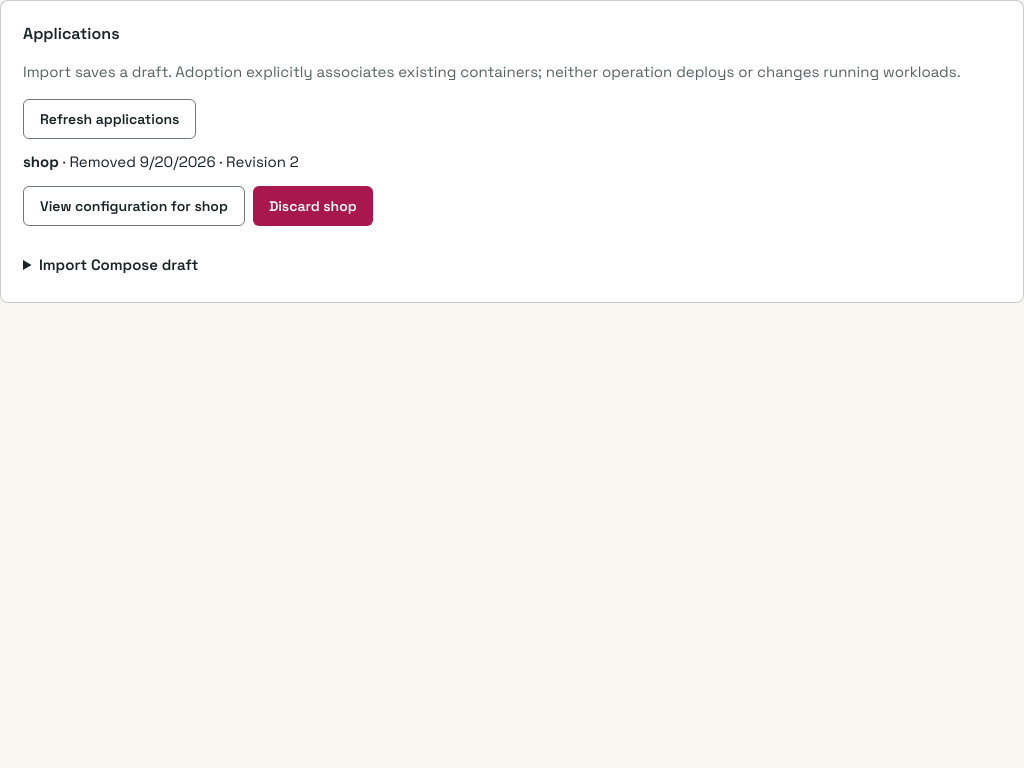
Test: labels a removed application, enables discard and offers re-adoption only
Expected: the button "Discard shop" is enabled, [253,186,373,226]
Click the button "View configuration for shop" at (134,206), box [23,186,245,226]
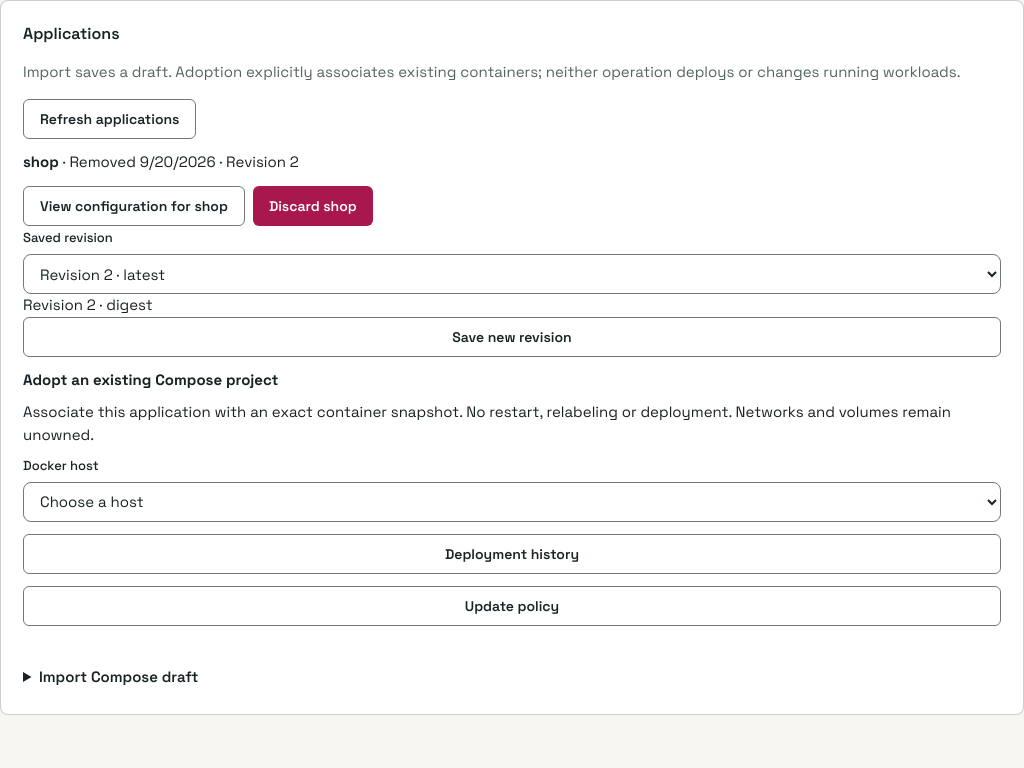
Expected: the text "Revision 2 · digest" is shown, [23,295,153,314]
Expected: the heading "Adopt an existing Compose project" is shown, [23,370,278,389]
